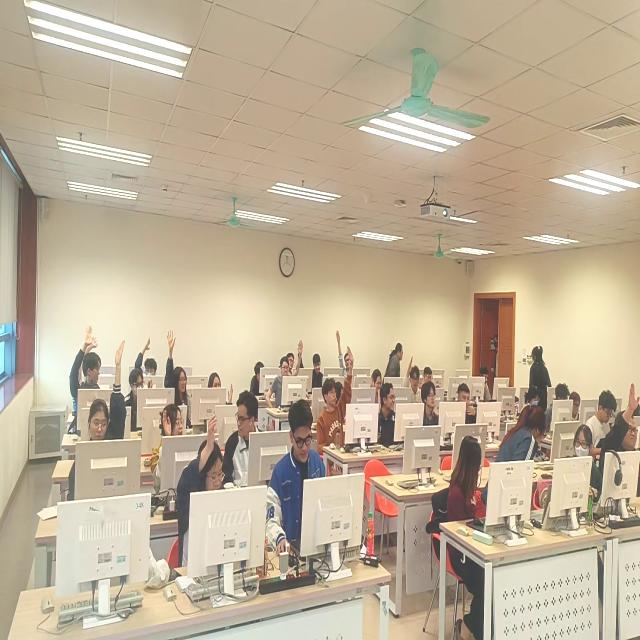raise_hand: (177, 413, 238, 586), (72, 340, 132, 509), (603, 381, 640, 514), (320, 345, 356, 473), (65, 323, 103, 433), (156, 399, 192, 489), (166, 331, 196, 428), (268, 341, 306, 411), (375, 384, 405, 449), (205, 366, 237, 411), (401, 354, 424, 414), (137, 333, 161, 382), (336, 329, 354, 380), (371, 368, 384, 402)
raise_head: (417, 379, 446, 442), (309, 353, 326, 395), (288, 350, 299, 374)
stand: (530, 345, 552, 423)
using_computer: (268, 402, 343, 575), (125, 369, 159, 432), (454, 382, 490, 441), (248, 359, 274, 402), (478, 371, 502, 406), (523, 389, 553, 416)
